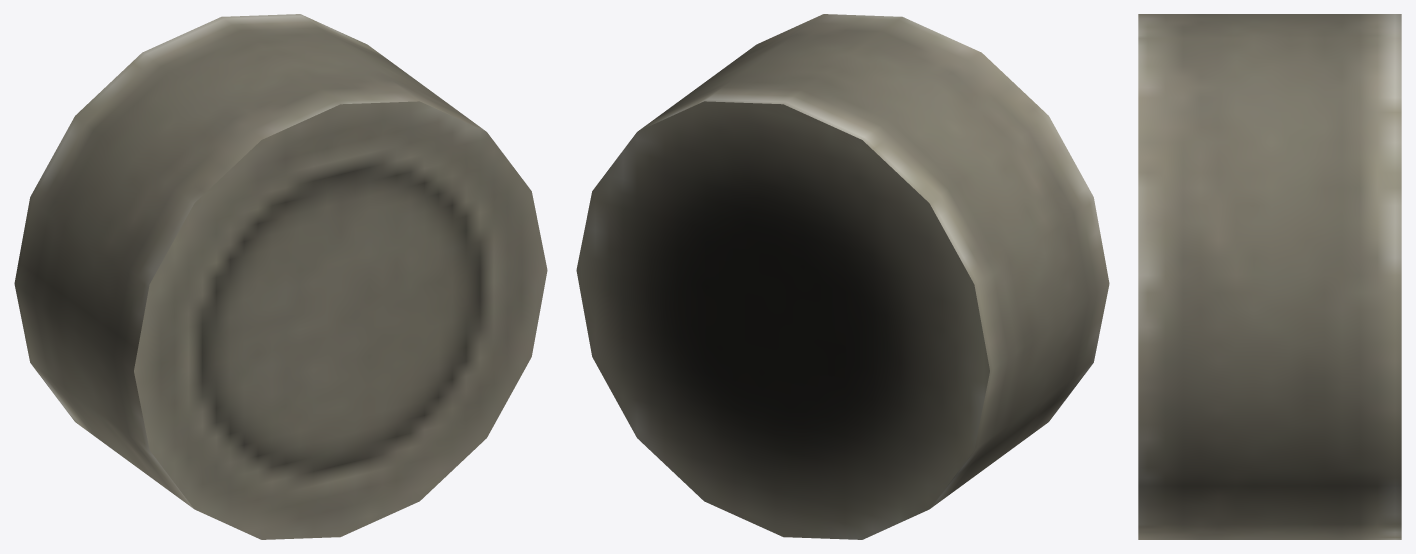
Rendered from eridani_solar_base.obj.
3 renders of one model, left to right at view 1: azimuth 30°, elevation 25°; view 2: azimuth 150°, elevation 25°; view 3: azimuth 270°, elevation 25°, orthographic. The views are drawn at different scales.
Parts seen in each view (by area): view 1: mesh1; view 2: mesh1; view 3: mesh1.
Boxes of the visible parts, x1,y1,x2,y2 form: mesh1: (14,14,547,539); mesh1: (576,14,1109,539); mesh1: (1138,14,1401,539).
Size of the model in its own units: 0.15 by 0.15 by 0.075.
Materials: 1 (1 with a texture image).
